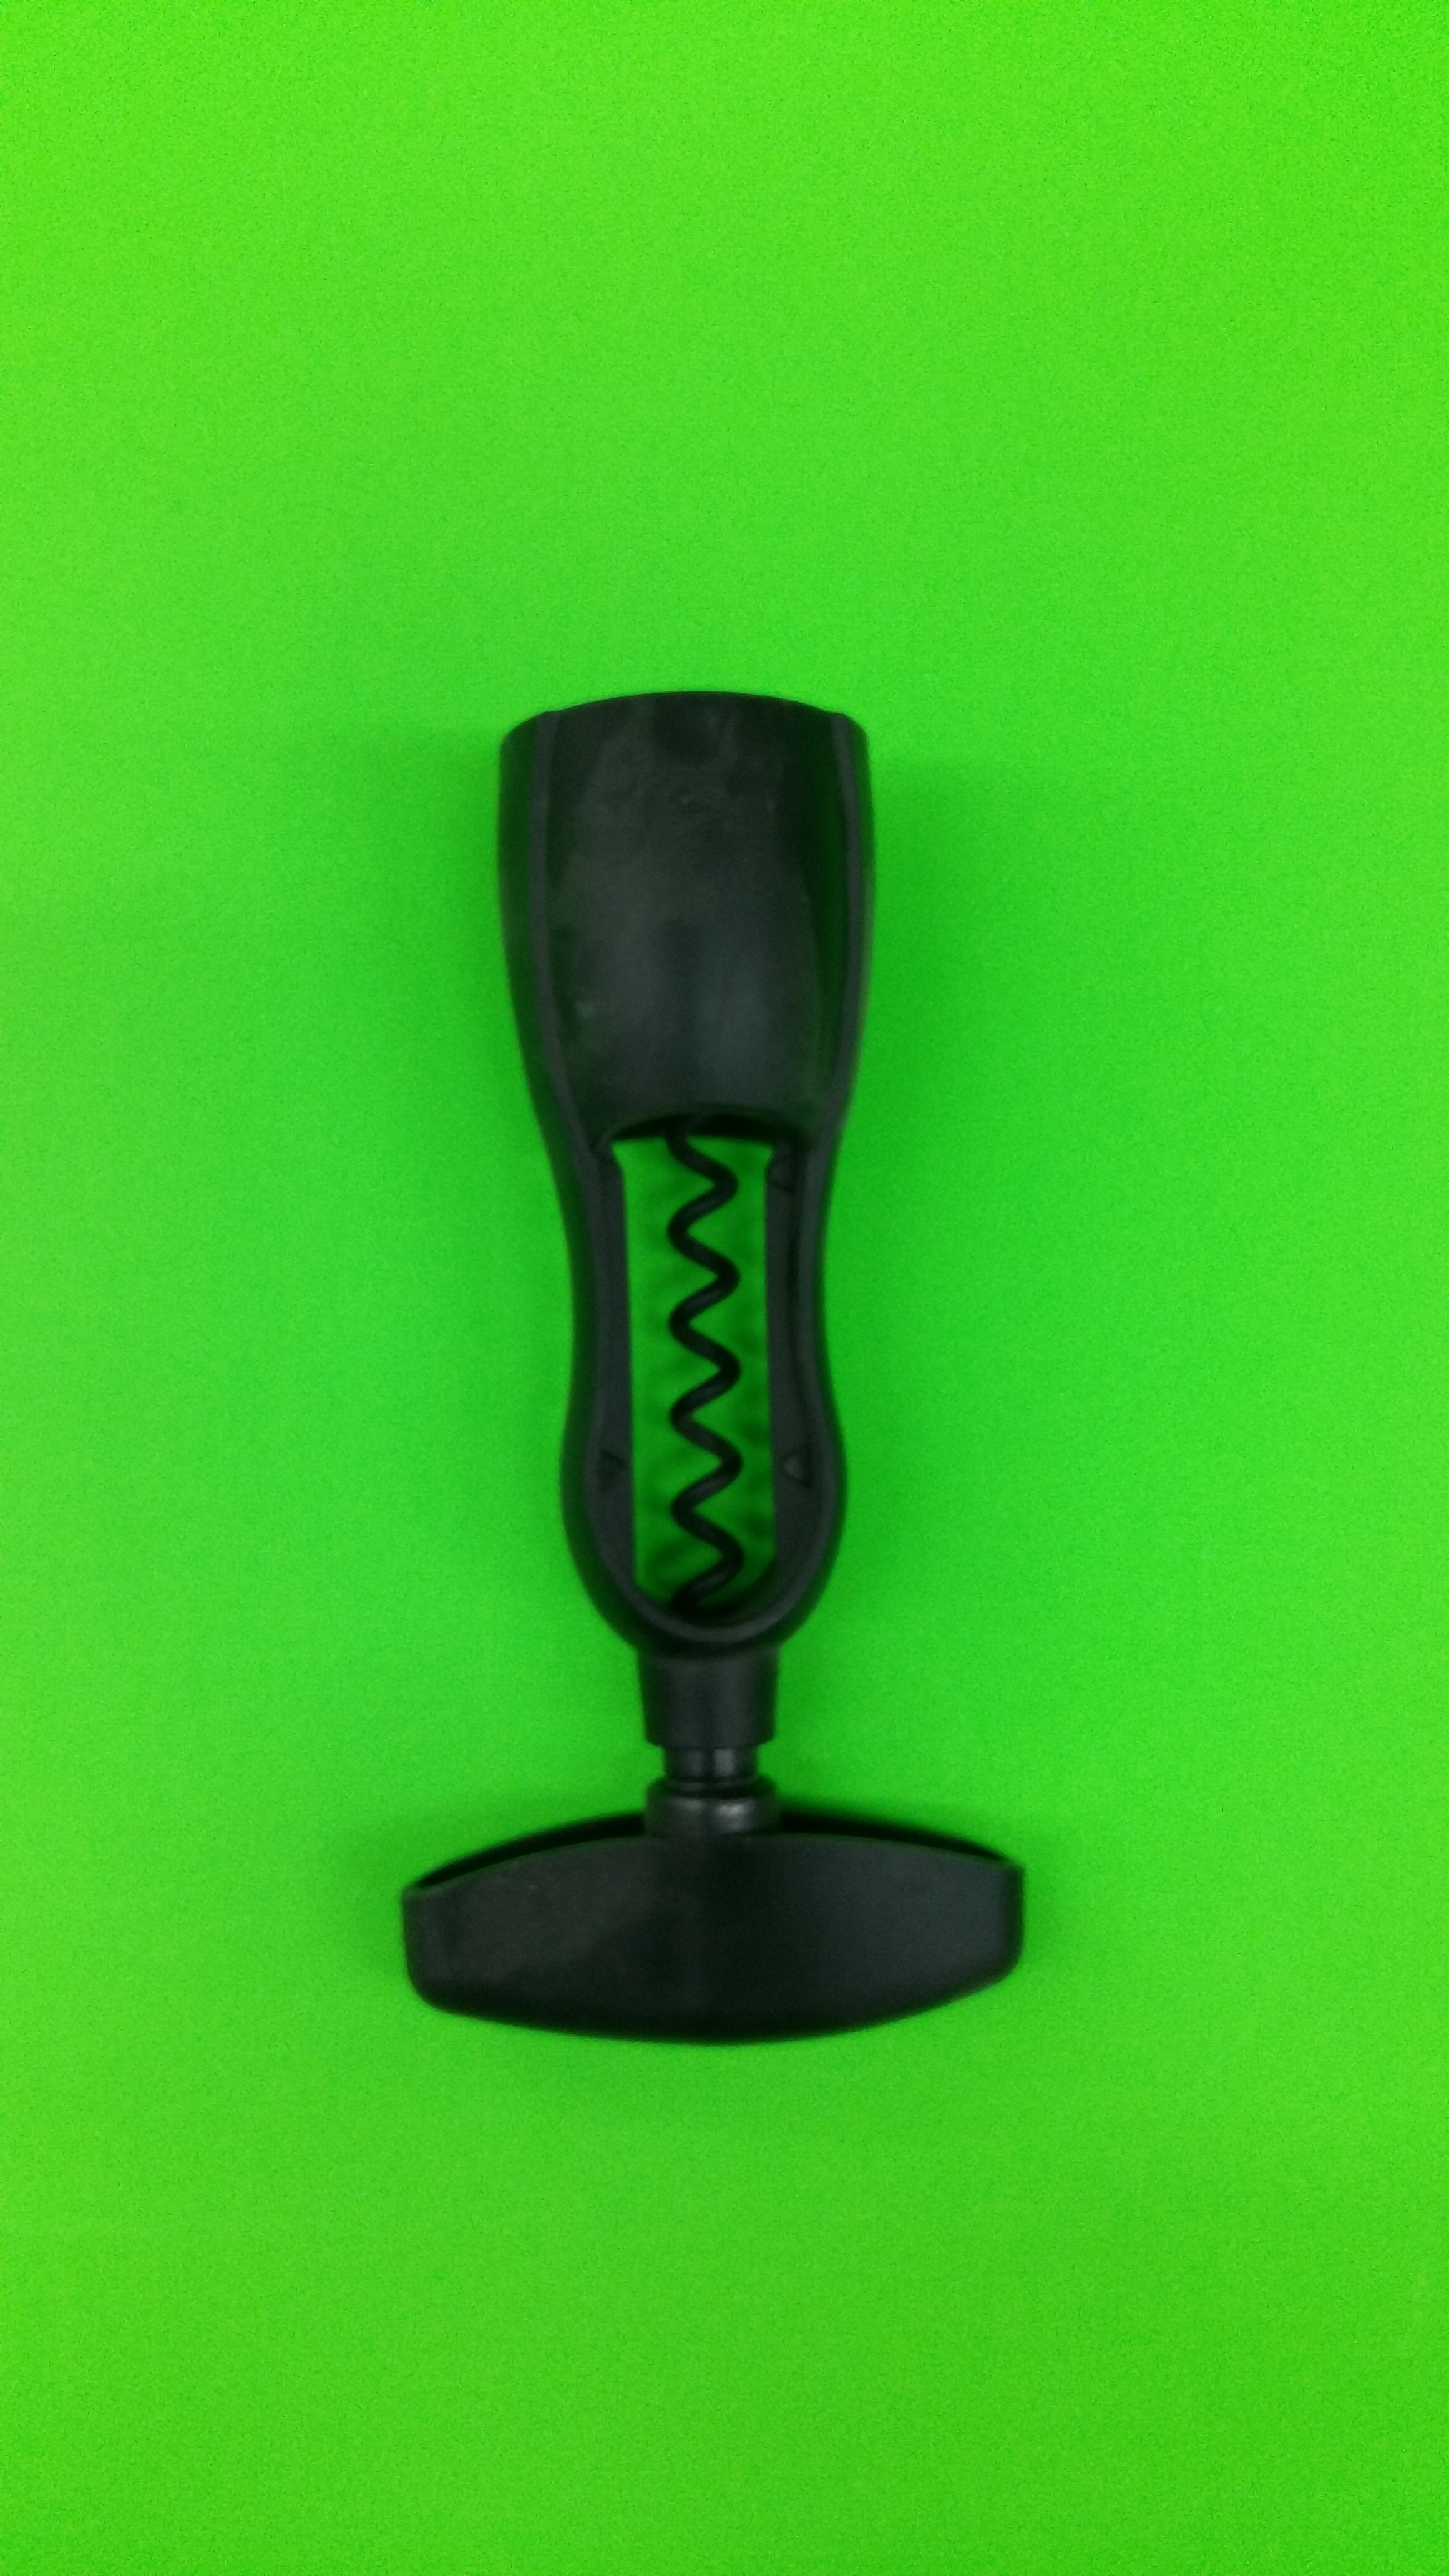bottleopener: (405, 697, 1028, 2047)
